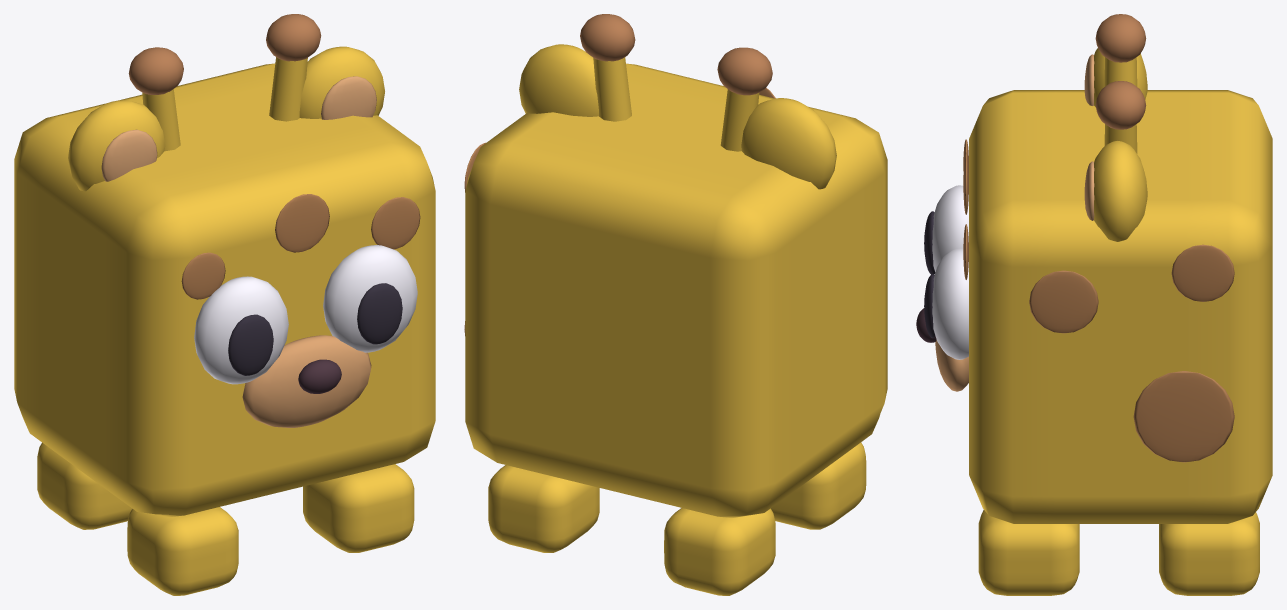
Rendered from pet-giraffe.glb.
3 renders of one model, left to right at view 1: azimuth 30°, elevation 25°; view 2: azimuth 150°, elevation 25°; view 3: azimuth 270°, elevation 25°, orthographic.
Parts seen in each view (by area): view 1: body, foot_L_front, foot_R_front, muzzle, face_spot (×3), eye_white_-1, eye_white_1, foot_L_back, ear_-1, ossicone_tip (×2), ear_1, ossicone (×2) (+5 smaller); view 2: body, foot_L_back, foot_R_back, ear_-1, ear_1, foot_L_front, ossicone_tip (×2), ossicone (×2); view 3: body, side_spot (×3), foot_R_front, foot_R_back, ear_1, ossicone_tip (×2), eye_white_1, eye_white_-1, ossicone (×2), muzzle, ear_-1, pupil_-1 (+2 smaller).
Part boxes in pixels (x1,y1,x2,y2): body: [14, 63, 435, 516]; foot_L_front: [127, 507, 238, 595]; foot_R_front: [303, 464, 414, 552]; muzzle: [242, 335, 371, 427]; face_spot (×3): [181, 194, 420, 299]; eye_white_-1: [194, 276, 288, 384]; eye_white_1: [323, 245, 417, 352]; foot_L_back: [37, 442, 132, 529]; ear_-1: [68, 100, 165, 191]; ossicone_tip (×2): [128, 14, 321, 94]; ear_1: [299, 46, 384, 118]; ossicone (×2): [142, 57, 307, 151]; body: [465, 63, 887, 517]; foot_L_back: [664, 508, 775, 595]; foot_R_back: [488, 465, 599, 552]; ear_-1: [741, 98, 836, 189]; ear_1: [519, 44, 598, 116]; foot_L_front: [771, 442, 866, 529]; ossicone_tip (×2): [580, 14, 772, 95]; ossicone (×2): [593, 57, 759, 151]; body: [969, 90, 1272, 523]; side_spot (×3): [1029, 244, 1234, 462]; foot_R_front: [978, 510, 1079, 595]; foot_R_back: [1159, 512, 1259, 595]; ear_1: [1094, 141, 1147, 241]; ossicone_tip (×2): [1095, 14, 1146, 129]; eye_white_1: [932, 248, 968, 359]; eye_white_-1: [932, 185, 968, 271]; ossicone (×2): [1104, 57, 1137, 153]; muzzle: [935, 340, 968, 391]; ear_-1: [1094, 48, 1147, 107]; pupil_-1: [924, 211, 935, 274].
Bounding box in the file's own units: 1.14 × 1.71 × 1.13.
